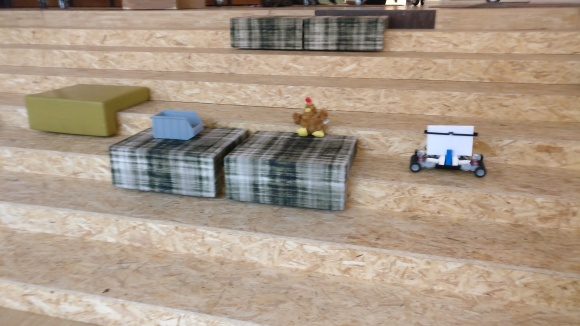car: (410, 124, 489, 180)
chicken: (290, 95, 329, 139)
tray: (149, 108, 205, 140)
